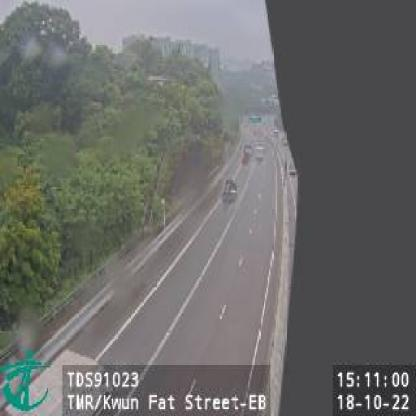Truck: (222, 175, 240, 204)
